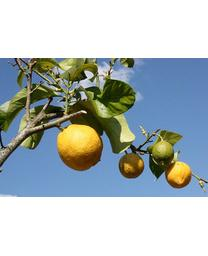lemon: (58, 124, 103, 171), (165, 159, 193, 188), (118, 152, 146, 180), (151, 138, 176, 162)
